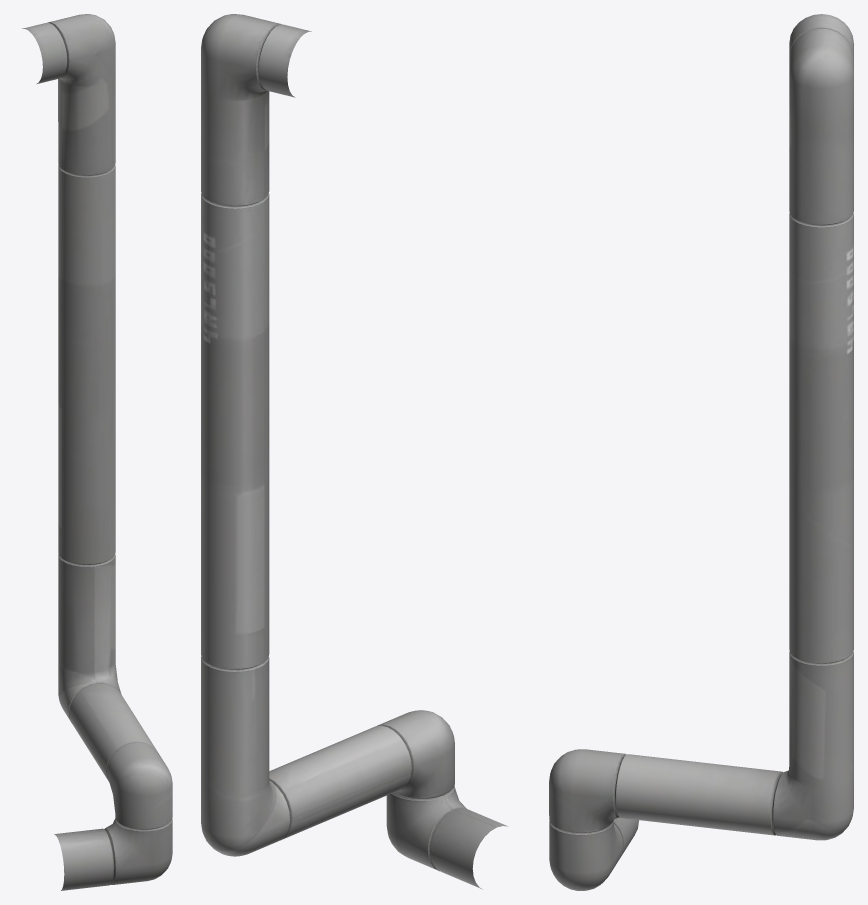
The picture shows the model from 3 angles, left to right: view 1: azimuth 30°, elevation 25°; view 2: azimuth 150°, elevation 25°; view 3: azimuth 270°, elevation 25°; orthographic projection. The views are drawn at different scales.
Visible parts, largest first — view 1: body0_model0_lod0_mesh0; view 2: body0_model0_lod0_mesh0; view 3: body0_model0_lod0_mesh0.
Part boxes in pixels (x1=…): body0_model0_lod0_mesh0: x1=22, y1=14, x2=172, y2=890; body0_model0_lod0_mesh0: x1=201, y1=14, x2=508, y2=889; body0_model0_lod0_mesh0: x1=549, y1=14, x2=853, y2=890.
Size of the model in its own units: 89.86 by 424 by 135.
1 material, 1 textured.
